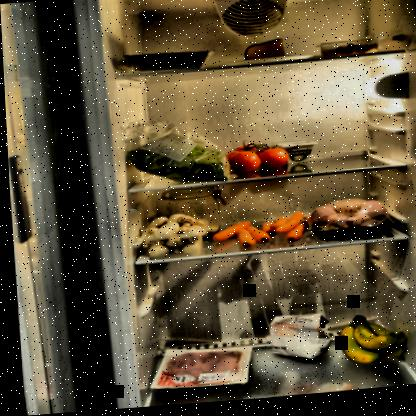banana: (333, 318, 404, 372)
carrot: (207, 214, 309, 255)
cheese: (241, 41, 287, 67)
chicken: (302, 198, 392, 247)
mushrooms: (133, 214, 215, 267)
shrimp: (317, 46, 380, 63)
spinach: (121, 129, 230, 192)
tomato: (220, 140, 290, 180)
